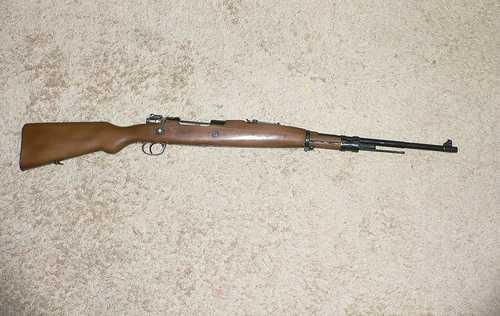heavyweapon: (15, 80, 472, 210)
